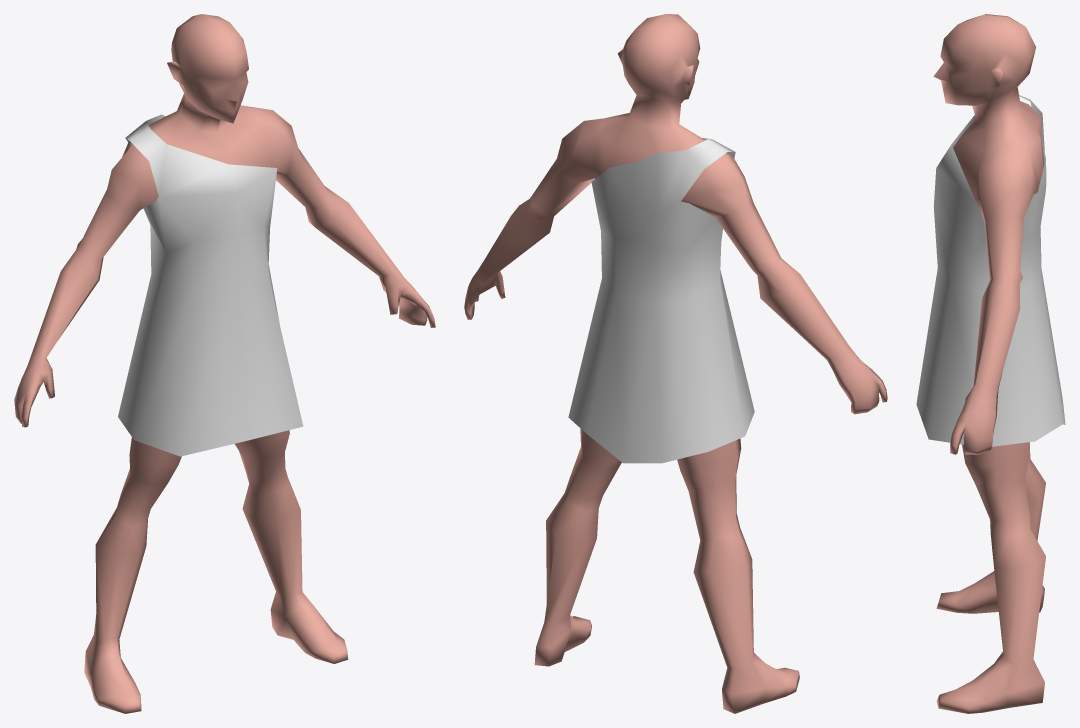
File: Human-lvl001.fbx
The picture shows the model from 3 angles, left to right: view 1: azimuth 30°, elevation 25°; view 2: azimuth 150°, elevation 25°; view 3: azimuth 270°, elevation 25°; orthographic projection. The views are drawn at different scales.
Parts seen in each view (by area): view 1: 02_Human; view 2: 02_Human; view 3: 02_Human.
Boxes of the visible parts, x1,y1,x2,y2 form: 02_Human: (14,14,435,713); 02_Human: (464,14,887,713); 02_Human: (916,14,1065,713).
Bounding box in the file's own units: 80.02 × 120 × 25.44.
